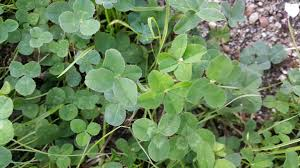4-clover: (85, 48, 144, 110), (141, 70, 195, 113), (156, 33, 205, 80)
